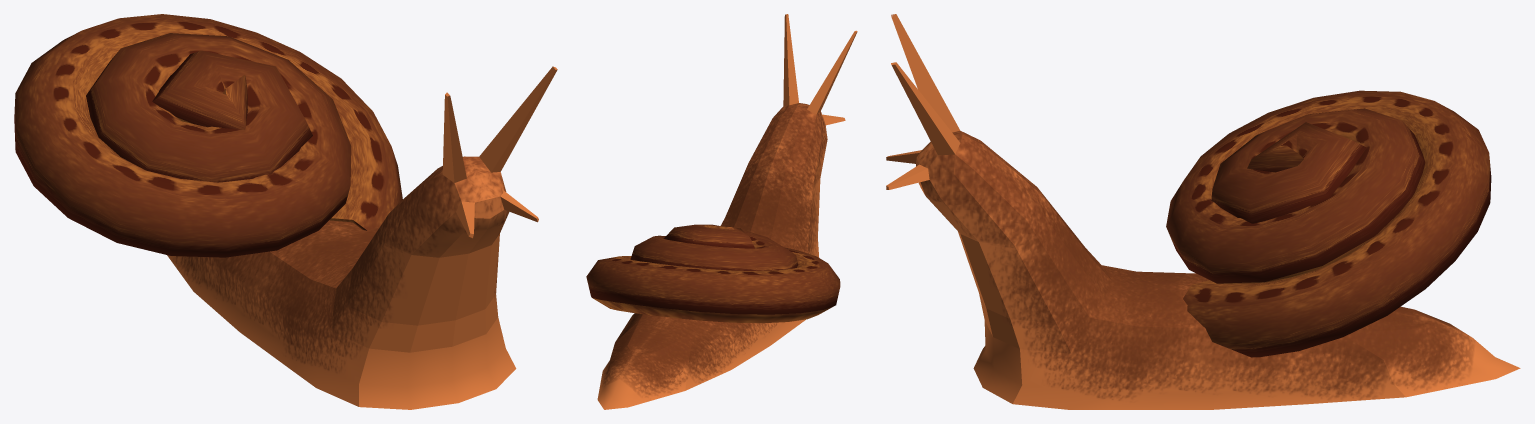
The model's file is Snail.fbx.
3 renders of one model, left to right at view 1: azimuth 30°, elevation 25°; view 2: azimuth 150°, elevation 25°; view 3: azimuth 270°, elevation 25°, orthographic. The views are drawn at different scales.
Visible parts, largest first — view 1: Snail; view 2: Snail; view 3: Snail.
Boxes of the visible parts, x1,y1,x2,y2 form: Snail: [14, 14, 557, 409]; Snail: [586, 14, 857, 409]; Snail: [886, 14, 1520, 409].
Bounding box in the file's own units: 142 × 137 × 239.
1 material, 1 textured.
